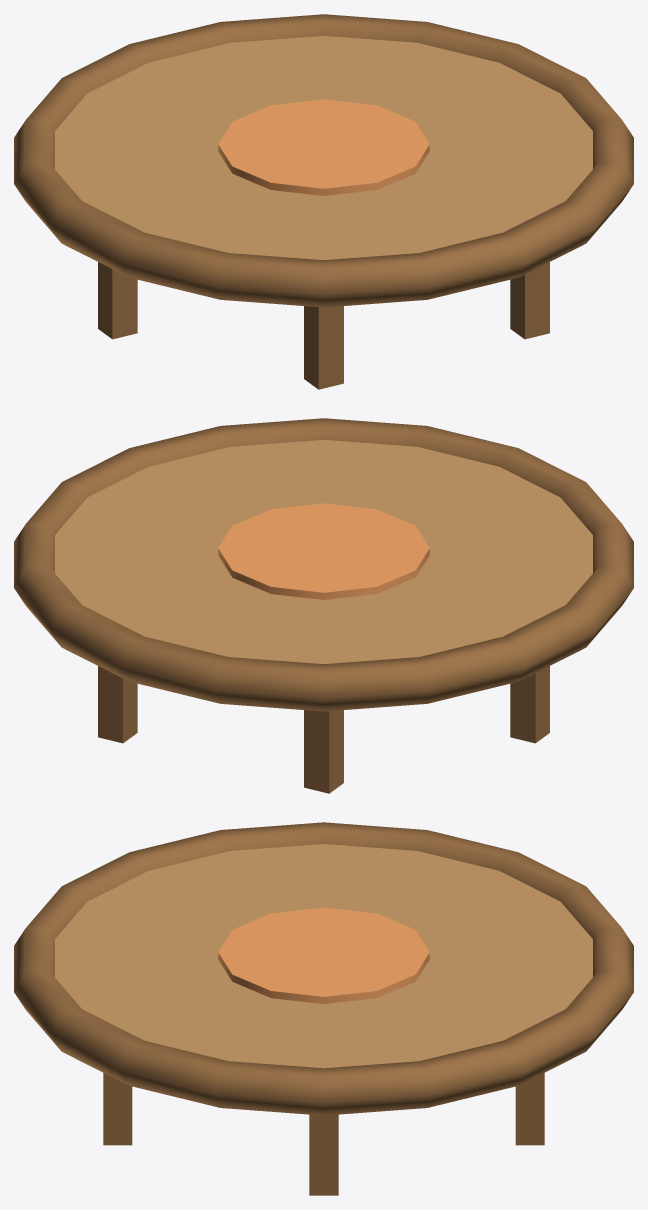
File: trampoline.glb
3 views of the same model, one above another, from view 1: azimuth 30°, elevation 25°; view 2: azimuth 150°, elevation 25°; view 3: azimuth 270°, elevation 25° (orthographic).
Parts seen in each view (by area): view 1: trampoline; view 2: trampoline; view 3: trampoline.
Boxes of the visible parts, x1,y1,x2,y2 form: trampoline: (14, 14, 633, 389); trampoline: (14, 418, 633, 793); trampoline: (14, 822, 633, 1195).
Bounding box in the file's own units: 47.6 × 11.56 × 46.88.
